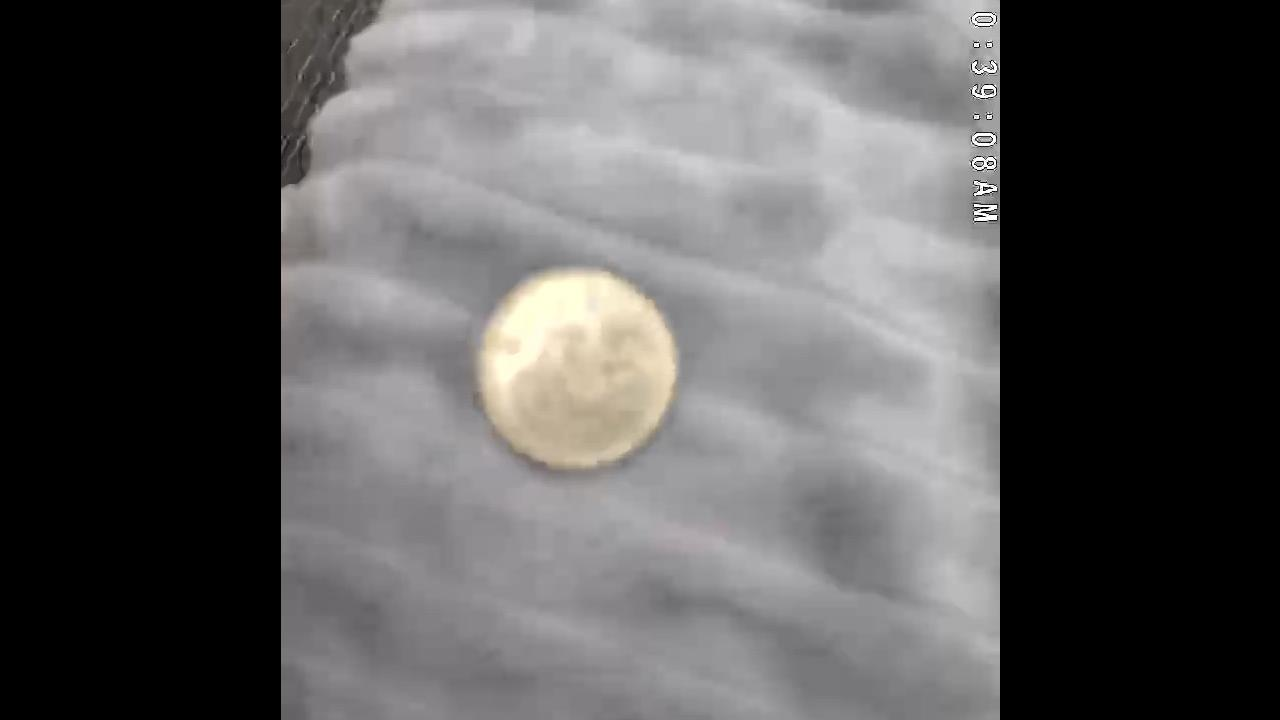coin: (470, 259, 684, 479)
